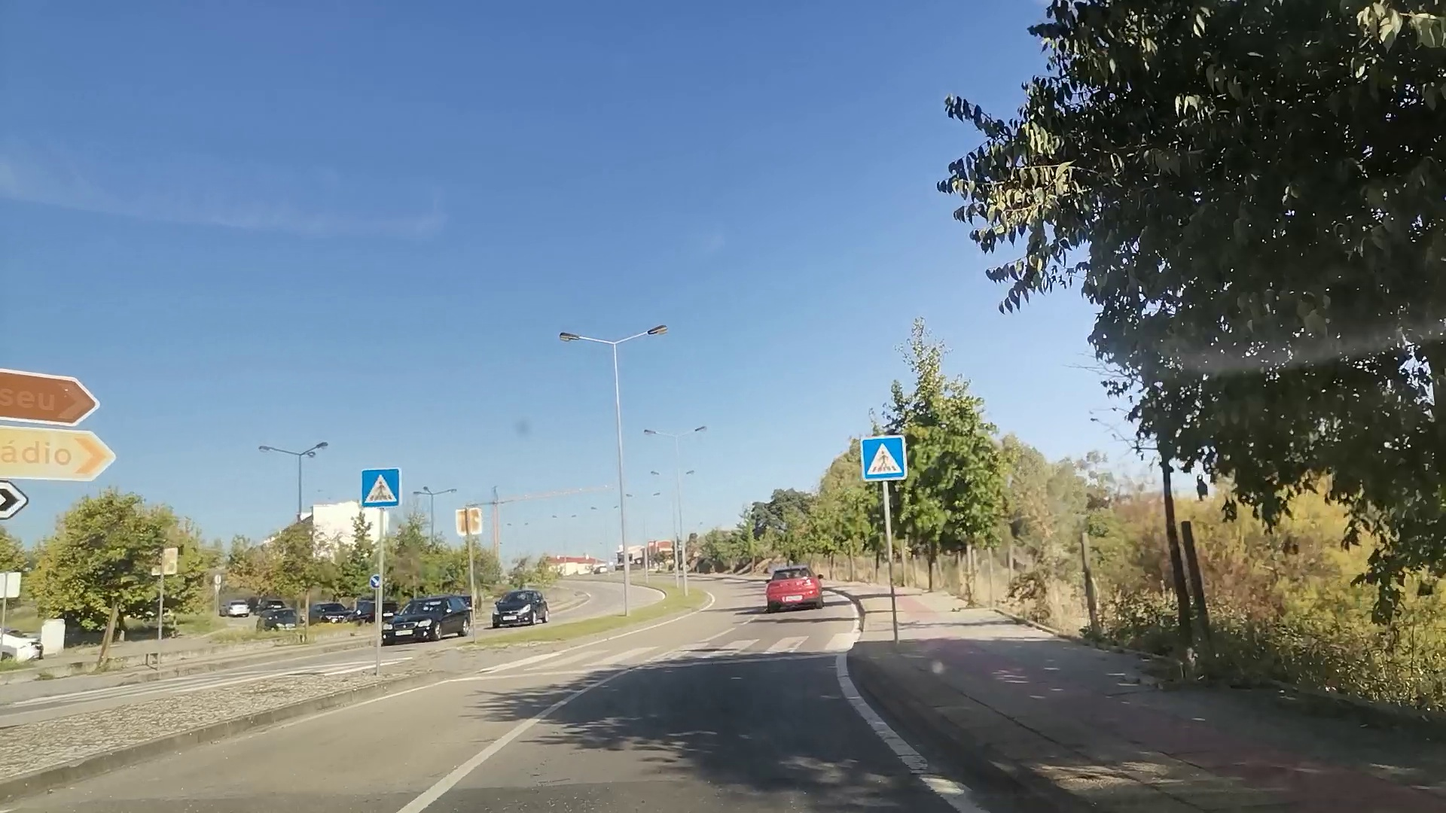Stairs: (506, 638, 868, 678)
